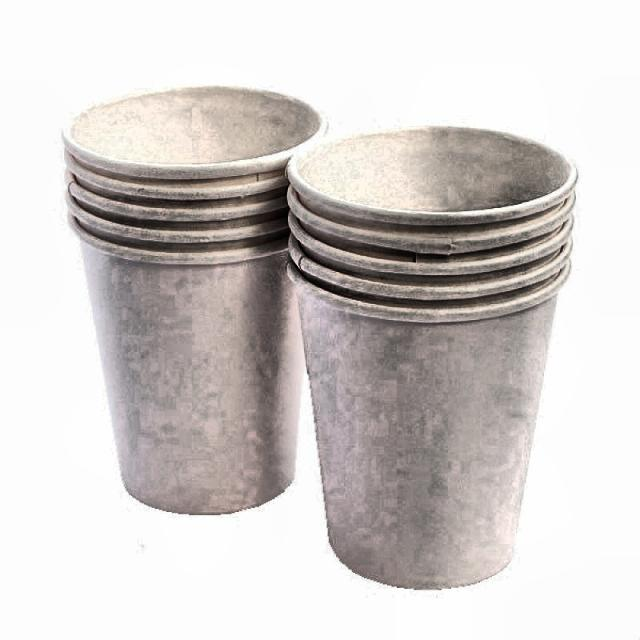Cup: (282, 116, 580, 612), (55, 79, 315, 526)
